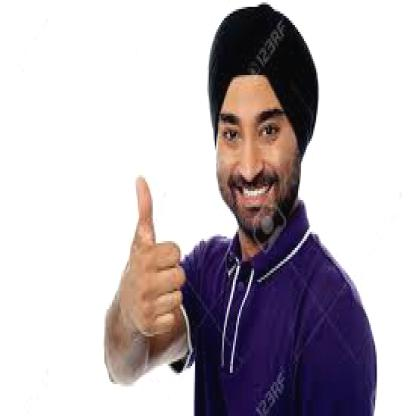Thumbs up: (105, 165, 190, 362)
